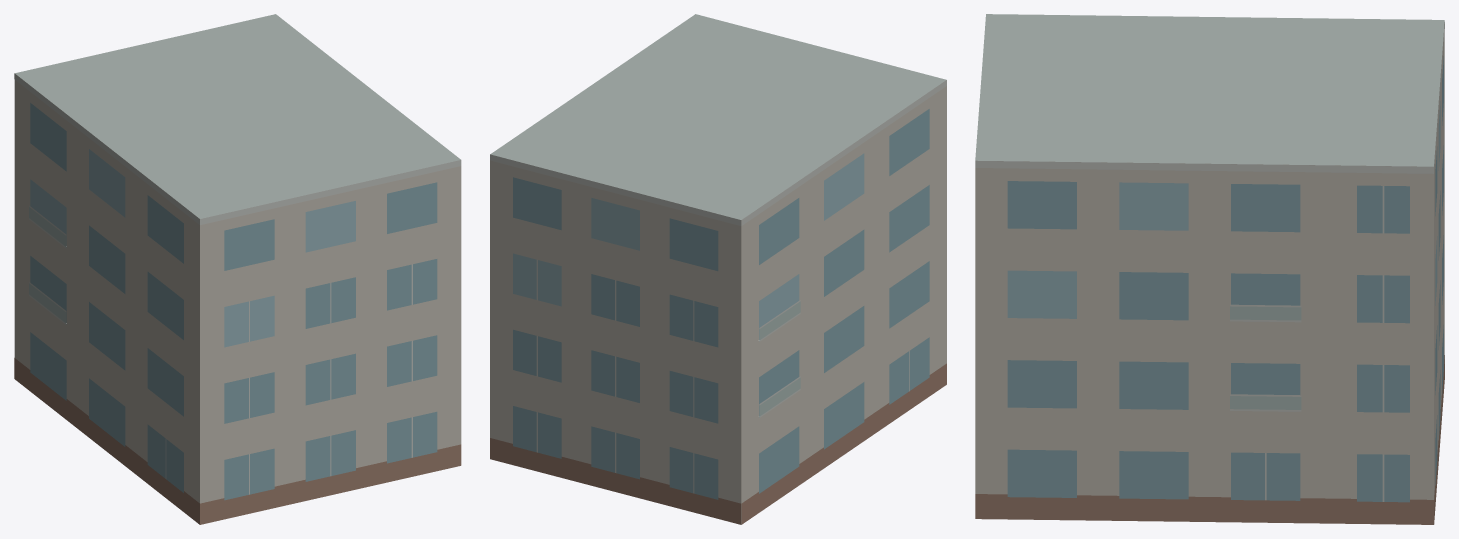
File: residential-5d424f94-c4c6-46ac-a169-98905c399628.glb
3 renders of one model, left to right at view 1: azimuth 30°, elevation 25°; view 2: azimuth 150°, elevation 25°; view 3: azimuth 270°, elevation 25°, orthographic. The views are drawn at different scales.
Parts seen in each view (by area): view 1: residential-5d424f94-c4c6-46ac-a169-98905c399628.tmp; view 2: residential-5d424f94-c4c6-46ac-a169-98905c399628.tmp; view 3: residential-5d424f94-c4c6-46ac-a169-98905c399628.tmp.
Boxes of the visible parts, x1,y1,x2,y2 form: residential-5d424f94-c4c6-46ac-a169-98905c399628.tmp: (14, 14, 461, 524); residential-5d424f94-c4c6-46ac-a169-98905c399628.tmp: (490, 14, 946, 524); residential-5d424f94-c4c6-46ac-a169-98905c399628.tmp: (975, 14, 1444, 524).
Bounding box in the file's own units: 11.16 × 12.2 × 14.51.
